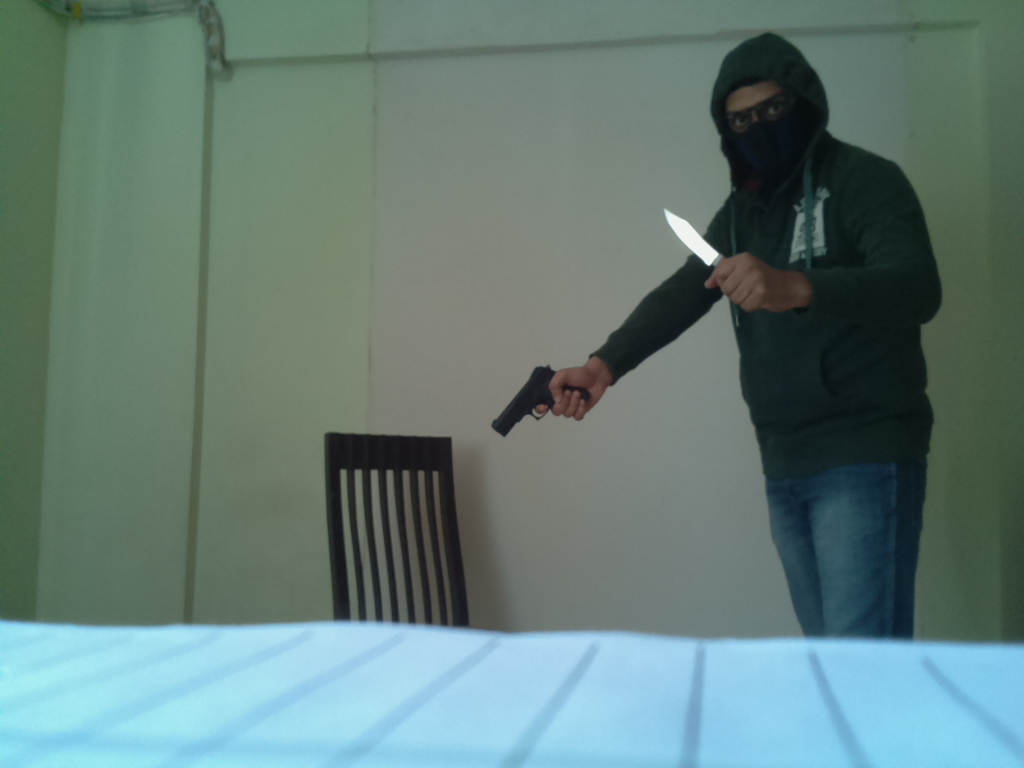gun: (479, 354, 604, 436)
knife: (656, 204, 732, 276)
